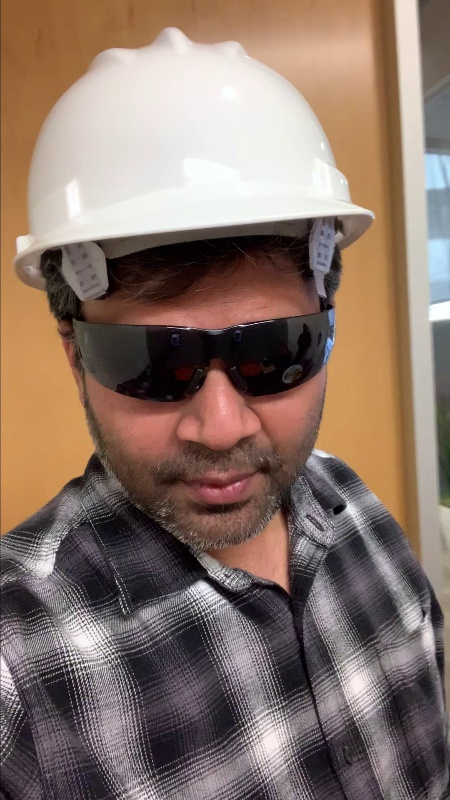glasses: (65, 306, 341, 407)
helmet: (5, 21, 387, 287)
